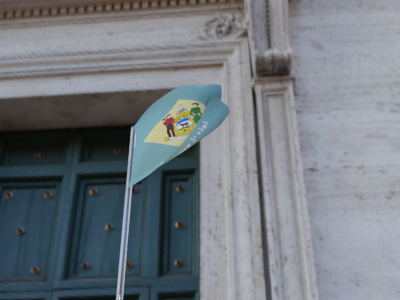Delaware flag: (129, 83, 230, 186)
